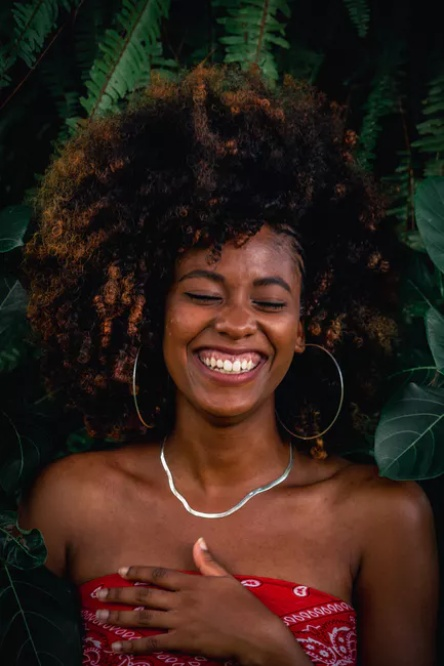face: (163, 230, 300, 418)
